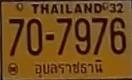0: (26, 18, 42, 55)
6: (109, 17, 125, 54)
7: (91, 17, 107, 54), (8, 18, 23, 55), (56, 18, 71, 54)
9: (74, 17, 90, 54)
UBN: (32, 58, 106, 78)
